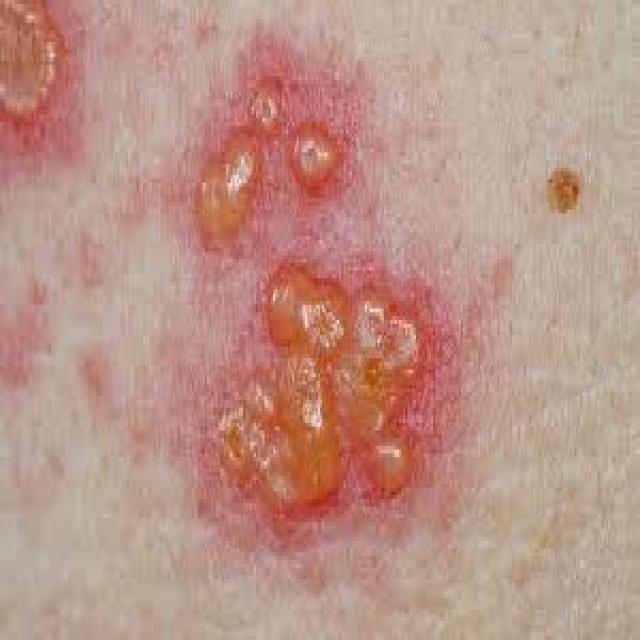Shingles: (192, 82, 434, 514)
